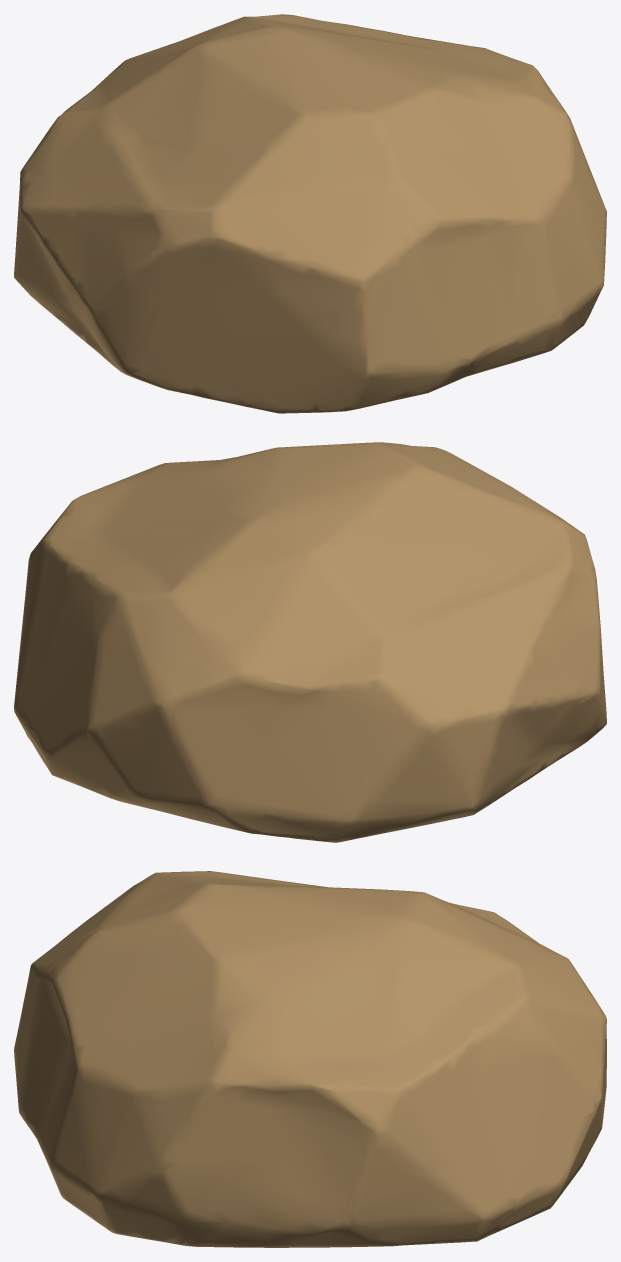
Rendered from gen3d-sandstone-rock-lod0.glb.
The picture shows the model from 3 angles, top to bottom: view 1: azimuth 30°, elevation 25°; view 2: azimuth 150°, elevation 25°; view 3: azimuth 270°, elevation 25°; orthographic projection.
Visible parts, largest first — view 1: part_0; view 2: part_0; view 3: part_0.
Boxes of the visible parts, x1,y1,x2,y2 form: part_0: (14,14,606,413); part_0: (14,442,606,842); part_0: (14,871,606,1247).
Bounding box in the file's own units: 2.08 × 1 × 2.09.
